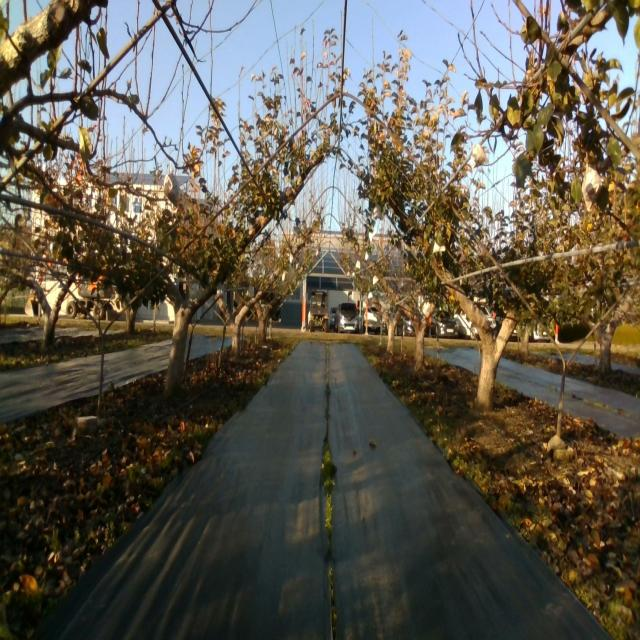pearbags: (581, 160, 603, 212), (163, 164, 180, 205), (471, 143, 488, 169)
